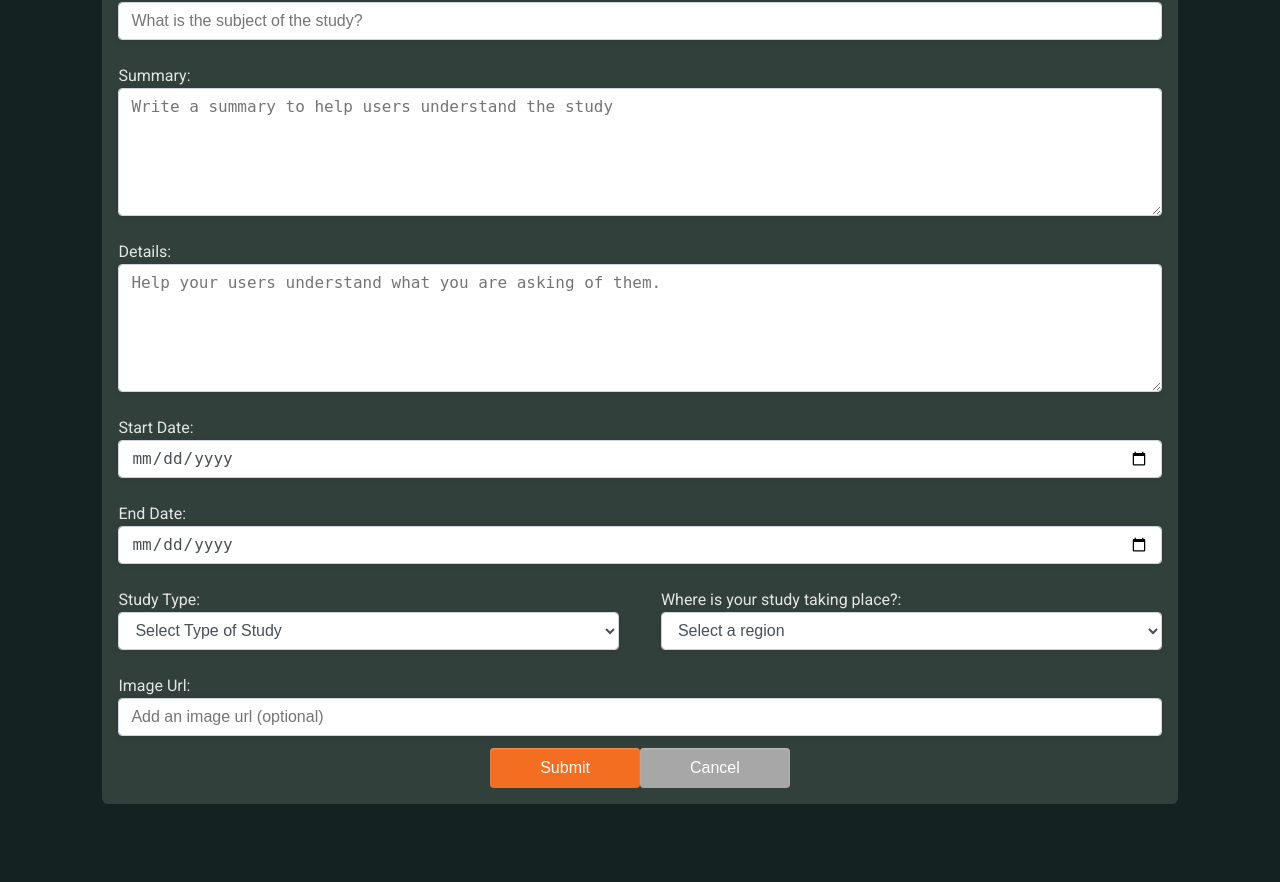
Test: Create Study Form Validation › Should render error messages when submitting a blank form
This screenshot has width=1280, height=882.
(page scrolled)
Click the button "Submit": coordinates (565, 768) [490,748,640,788]
(page scrolled)
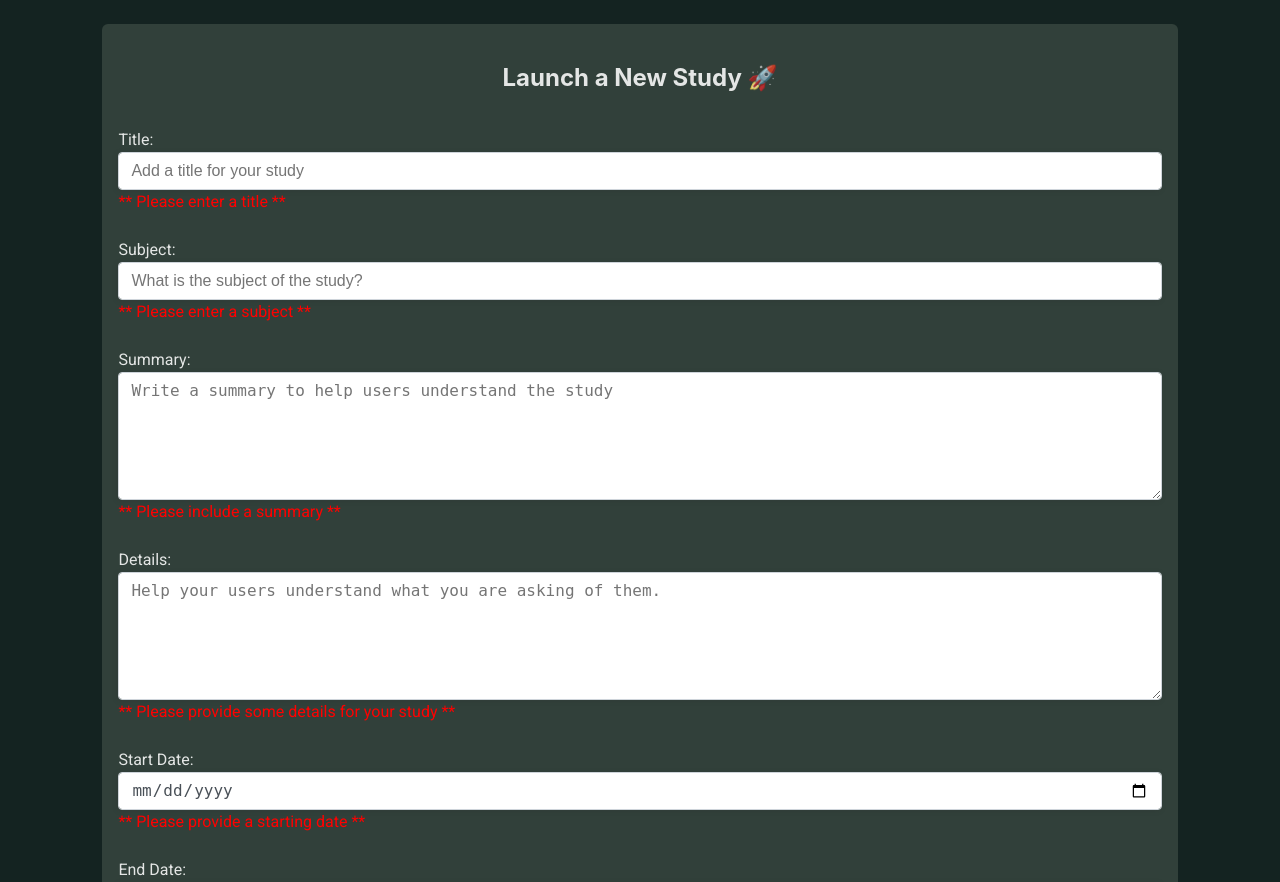
Result: the text "** Please provide a starting date **" is shown at [118,812,365,831]
Result: the text "** Please provide some details for your study **" is shown at [118,702,455,721]
Result: the text "** Please include a summary **" is shown at [118,502,341,521]
